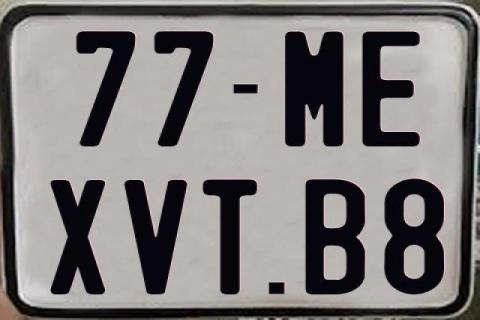0: (381, 178, 444, 298), (74, 32, 135, 152), (152, 31, 211, 148)
B: (304, 178, 369, 294)
E: (360, 29, 418, 148)
M: (284, 29, 346, 149)
T: (203, 179, 263, 295)
V: (124, 179, 189, 295)
X: (50, 178, 106, 294)
